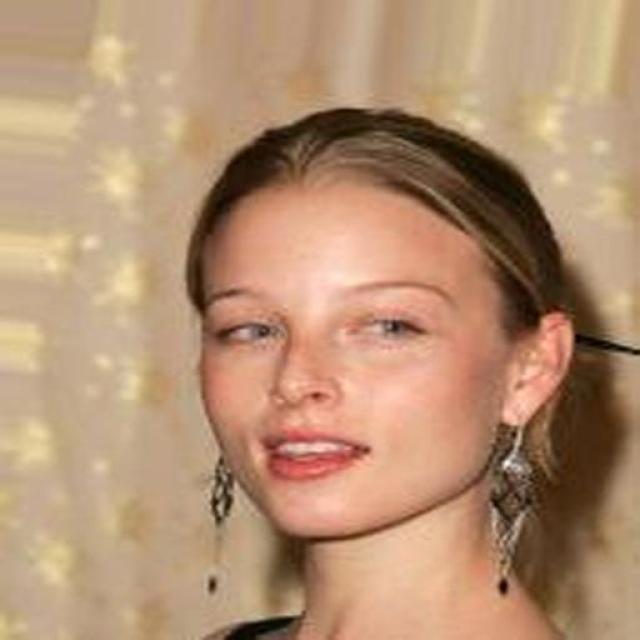bareface: (194, 138, 546, 540)
